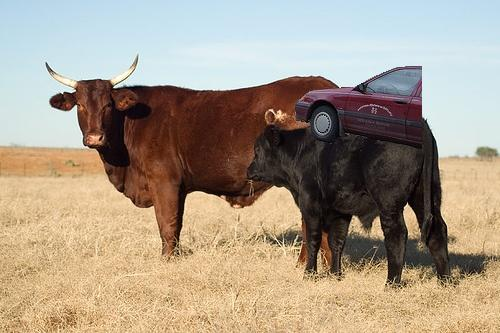tampered: (296, 67, 422, 149)
